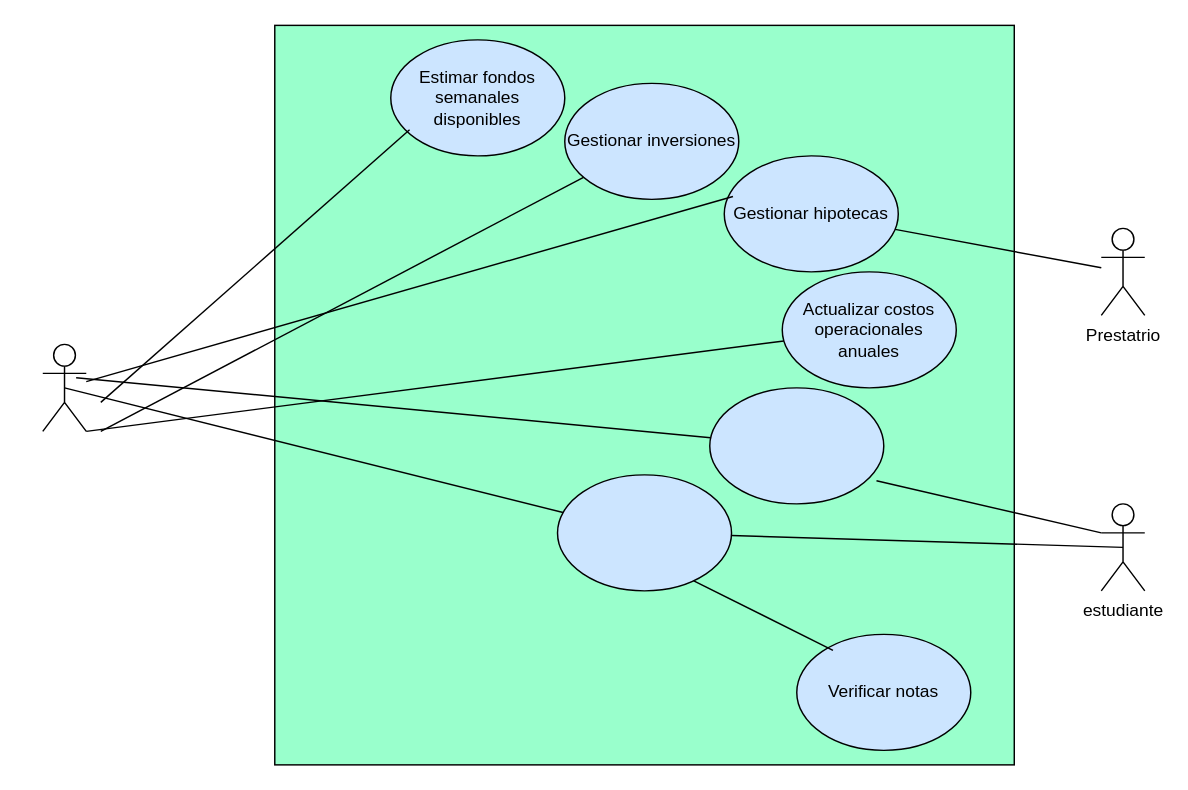
This 1188x790 diagram has some shape labels left out. Here are the shapes that lost their labels. From the top down, the box of each, then its label:
(41, 343, 86, 431): Empleado MSGF
(708, 386, 884, 504): Otorgar becas - credito
(556, 473, 732, 591): Calcular condonacion de la matricula
